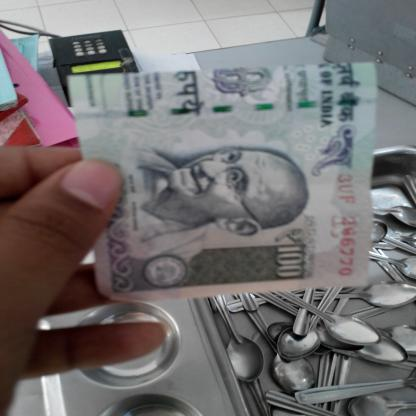Old50Front: (66, 62, 378, 302)
